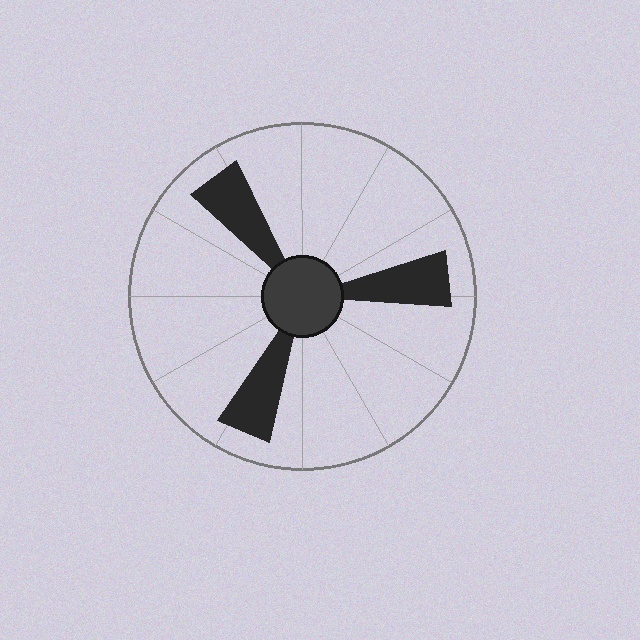fan: (124, 118, 480, 474)
